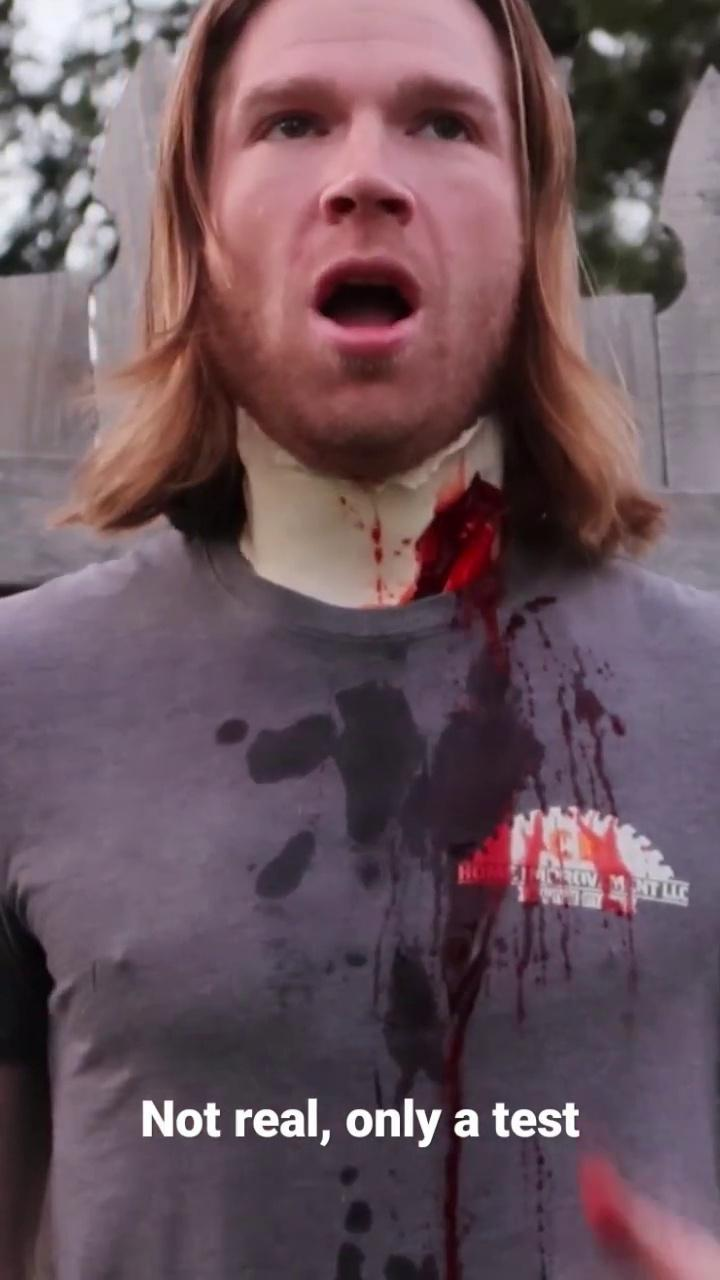Fire: (427, 597, 690, 1280), (368, 475, 504, 616)
